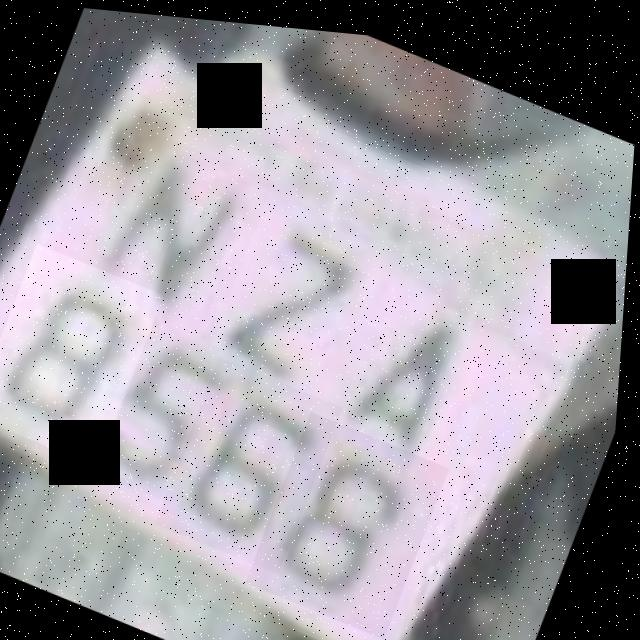5: (62, 300, 267, 516)
6: (159, 347, 350, 572)
8: (251, 400, 457, 634), (0, 238, 169, 468)
A: (316, 248, 503, 481)
N: (77, 119, 277, 343)
Z: (194, 185, 382, 398)
